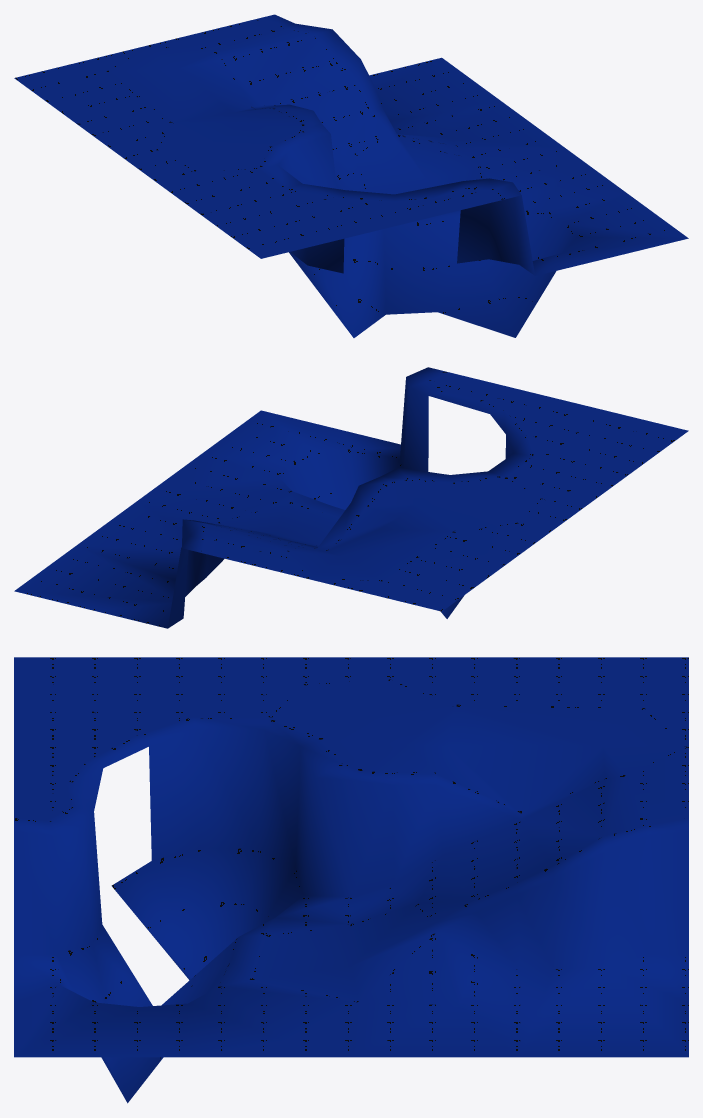
Rendered from GRD_S_C3_S_1.fbx.
3 views of the same model, one above another, from view 1: azimuth 30°, elevation 25°; view 2: azimuth 150°, elevation 25°; view 3: azimuth 270°, elevation 25° (orthographic). The views are drawn at different scales.
Parts seen in each view (by area): view 1: material_00012000, material_C0042000, material_C0032000, material_00022000; view 2: material_00012000, material_C0032000, material_00022000, material_C0042000; view 3: material_00012000, material_00022000, material_C0032000, material_C0042000.
Boxes of the visible parts, x1,y1,x2,y2 form: material_00012000: [14, 19, 688, 275]; material_C0042000: [289, 210, 576, 337]; material_C0032000: [106, 45, 482, 194]; material_00022000: [253, 14, 534, 275]; material_00012000: [14, 372, 688, 628]; material_C0032000: [217, 477, 543, 581]; material_00022000: [168, 367, 534, 628]; material_C0042000: [278, 449, 464, 618]; material_00012000: [14, 657, 688, 1057]; material_00022000: [14, 716, 688, 970]; material_C0032000: [249, 679, 688, 1002]; material_C0042000: [56, 848, 303, 1103].
Bounding box in the file's own units: 12800 × 5200 × 12800.
